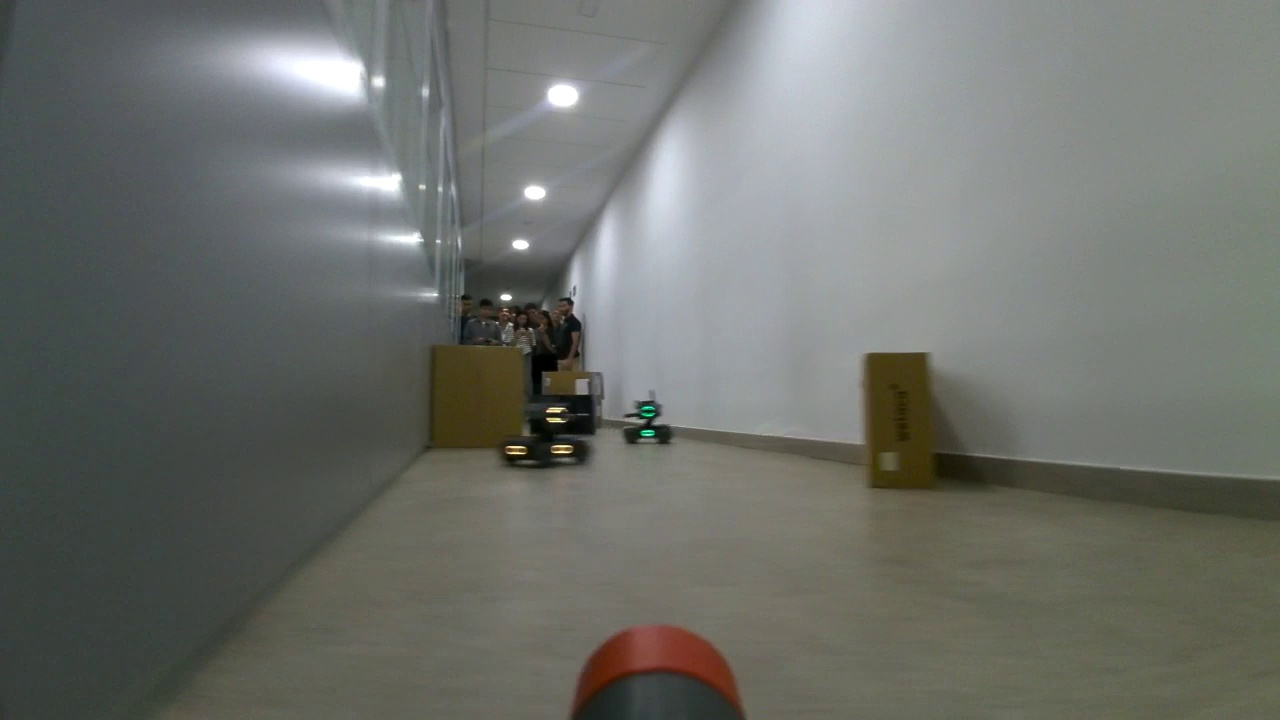robot: (499, 401, 596, 470), (617, 397, 677, 446)
